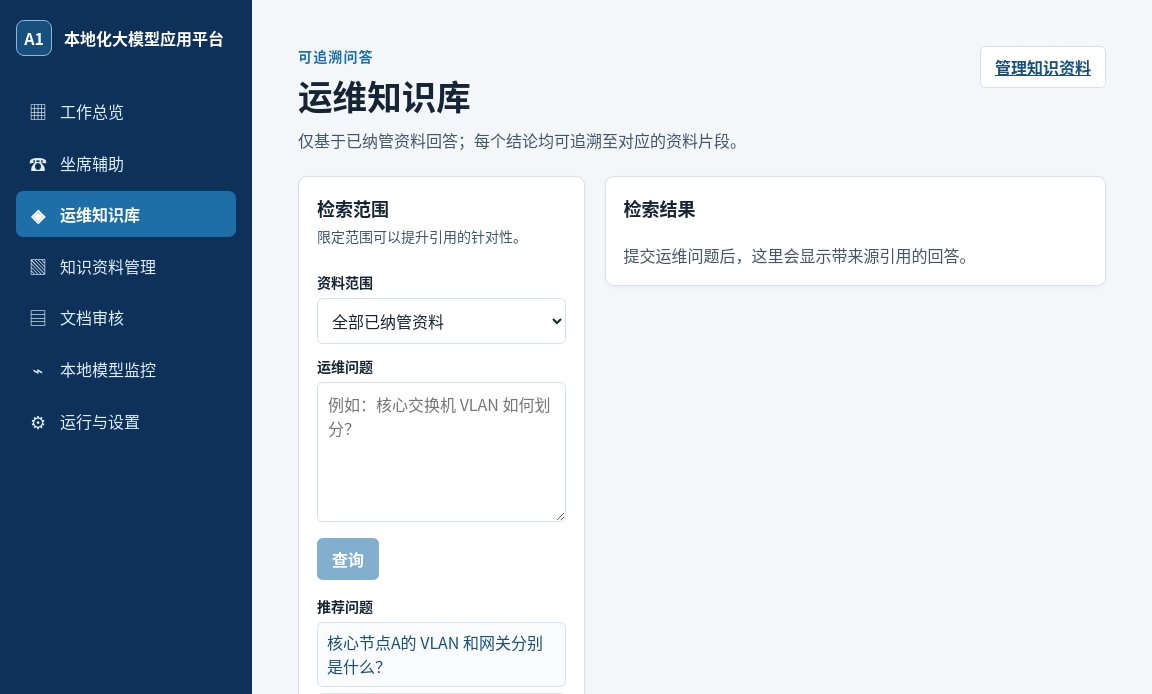
Test: clears cached authentication and preserves the return path after an SSE request receives 401
Step 1. Type "会话过期测试" into the text box labelled "运维问题" → (441, 452), box x1=317 y1=382 x2=566 y2=522
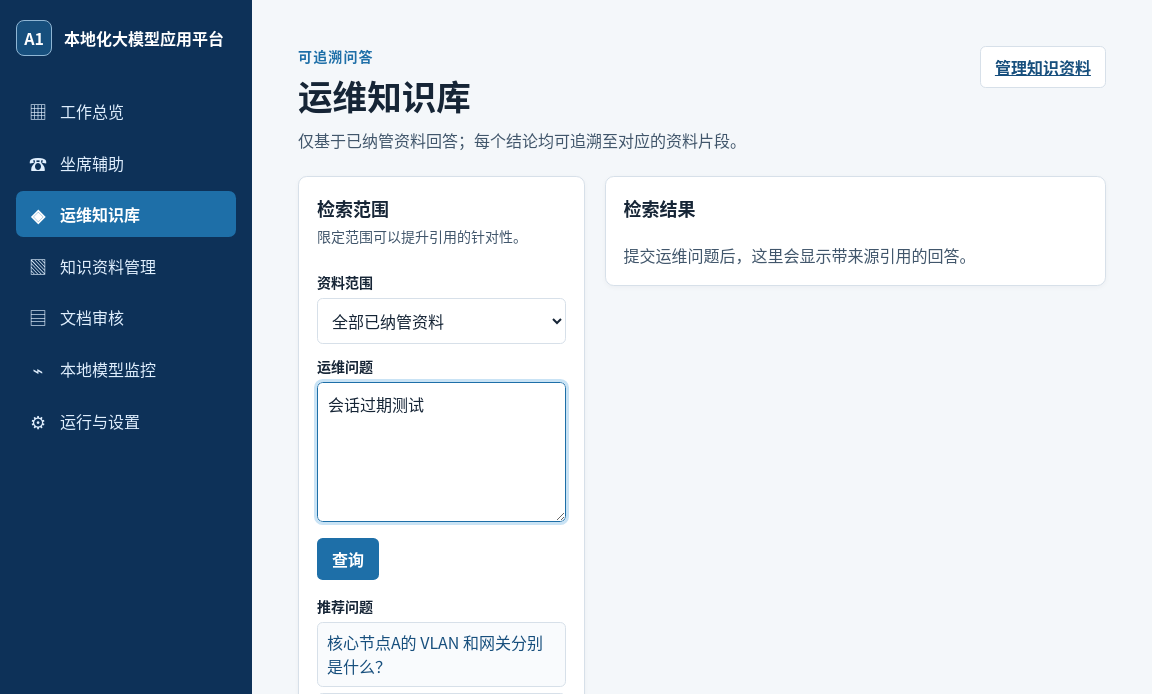
Step 2. Click the button "查询" → (348, 559), box x1=317 y1=538 x2=379 y2=580
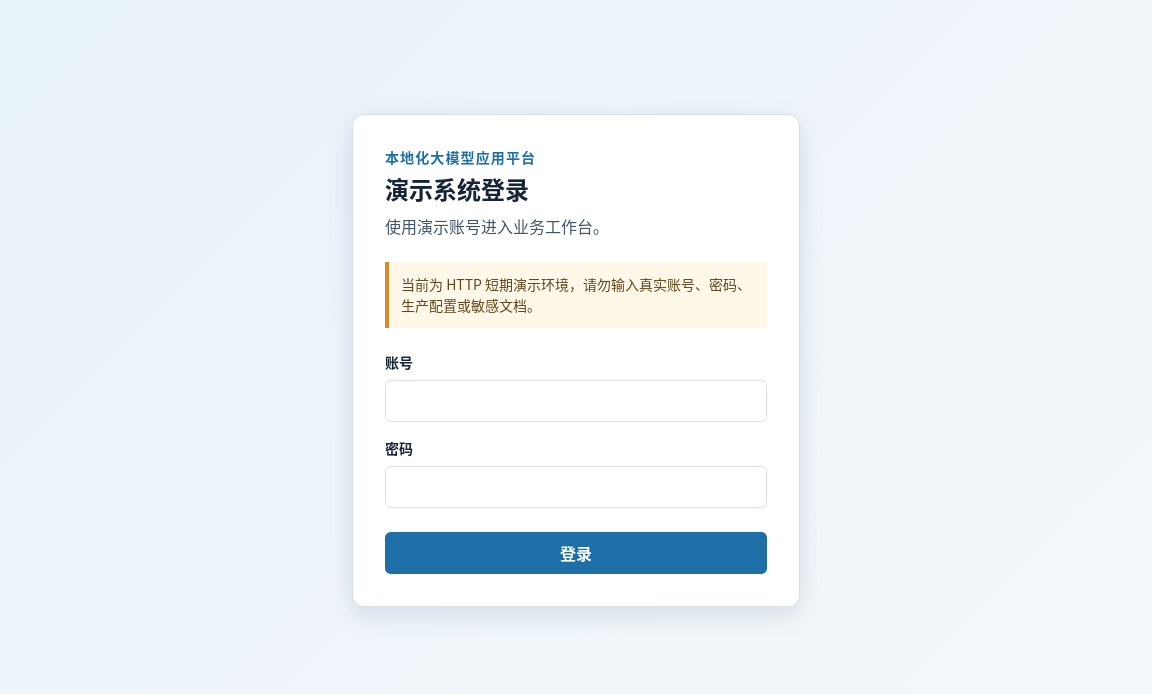
Now the heading "演示系统登录" is shown, box x1=385 y1=170 x2=529 y2=206
